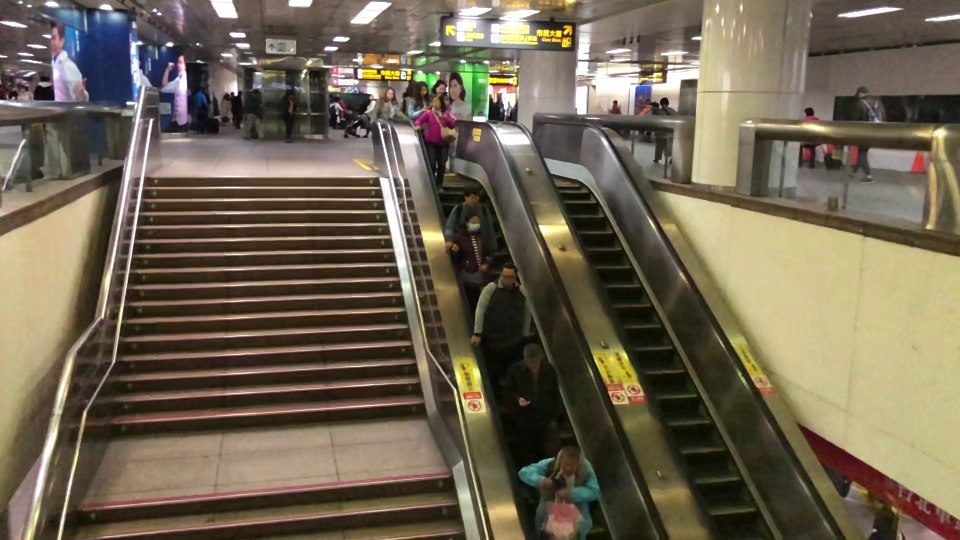person_head: (552, 445, 581, 475), (493, 265, 521, 291), (522, 342, 545, 372), (458, 184, 483, 207), (461, 215, 482, 234), (852, 85, 869, 100), (415, 81, 429, 96), (429, 99, 444, 113), (383, 86, 395, 102), (434, 79, 446, 94), (658, 96, 671, 109), (283, 87, 296, 99), (803, 106, 815, 117), (650, 99, 661, 110), (37, 72, 49, 82), (338, 91, 346, 105), (365, 91, 375, 102), (17, 84, 28, 93), (250, 88, 261, 97), (494, 95, 503, 105), (641, 97, 650, 107), (194, 85, 205, 93), (329, 94, 337, 103), (236, 87, 242, 98), (611, 99, 618, 107)
person_vbox: (486, 343, 564, 460), (465, 265, 534, 389), (517, 445, 606, 539), (442, 184, 501, 269), (412, 96, 458, 193), (846, 83, 888, 186), (450, 213, 494, 291), (374, 85, 415, 130), (653, 97, 677, 168), (796, 104, 822, 169), (277, 87, 302, 141), (243, 88, 268, 139), (405, 80, 433, 121), (427, 78, 451, 116), (33, 71, 54, 113), (192, 84, 209, 131), (15, 83, 33, 121), (636, 97, 652, 138), (646, 100, 662, 140), (362, 89, 375, 138), (230, 84, 244, 128), (336, 89, 350, 125), (325, 96, 340, 127), (490, 92, 505, 119), (608, 97, 623, 116)
